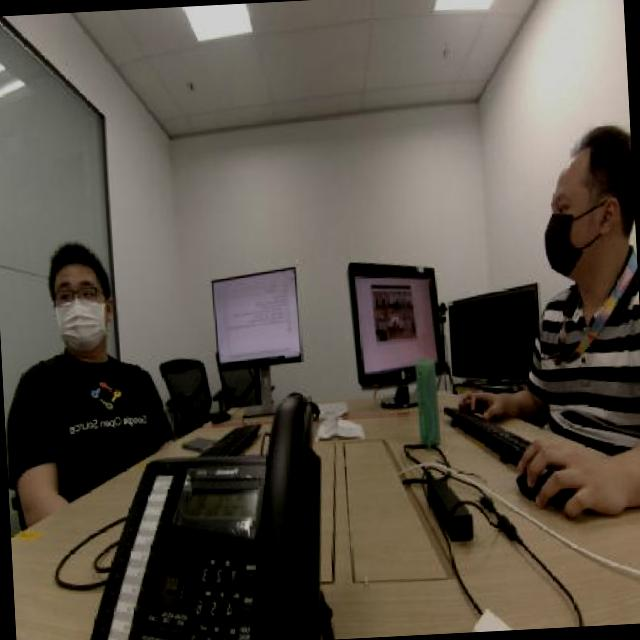Person: (519, 112, 639, 472), (8, 224, 156, 468)
